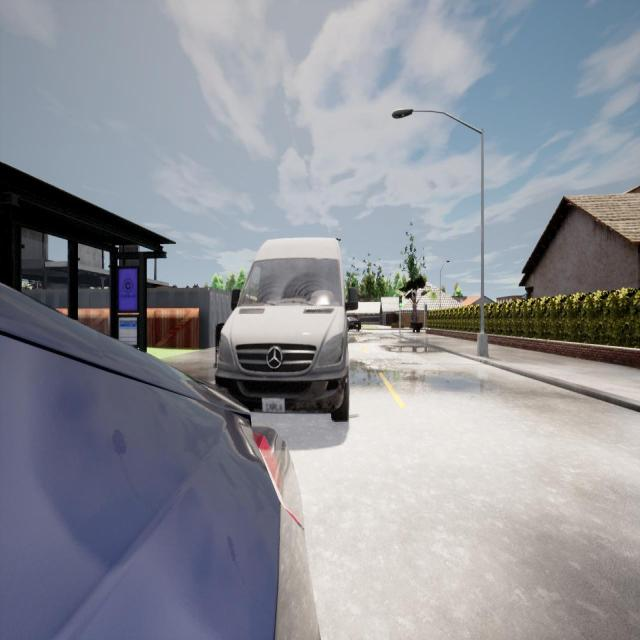Vehicle: (0, 284, 319, 638), (215, 238, 360, 423), (347, 316, 361, 331)
traffic_light: (399, 296, 402, 307), (425, 304, 427, 312)
